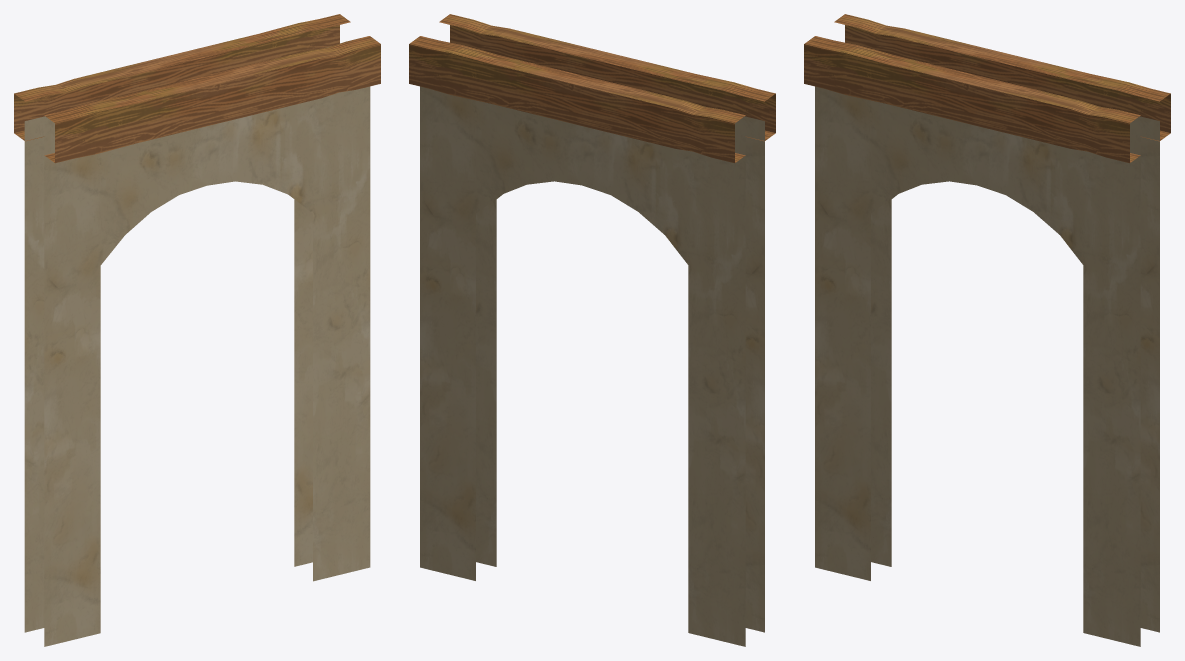
The model's file is door_new2.glb.
3 views of the same model, side by side, from view 1: azimuth 30°, elevation 25°; view 2: azimuth 150°, elevation 25°; view 3: azimuth 330°, elevation 25° (orthographic).
Visible parts, largest first — view 1: Wall_Plaster_Door_Round; view 2: Wall_Plaster_Door_Round; view 3: Wall_Plaster_Door_Round.
Boxes of the visible parts, left/top/right/bottom form: Wall_Plaster_Door_Round: left=14, top=14, right=380, bottom=646; Wall_Plaster_Door_Round: left=409, top=14, right=775, bottom=646; Wall_Plaster_Door_Round: left=804, top=14, right=1170, bottom=646.
Size of the model in its own units: 2 by 3.12 by 0.4361.
2 materials, 2 textured.
